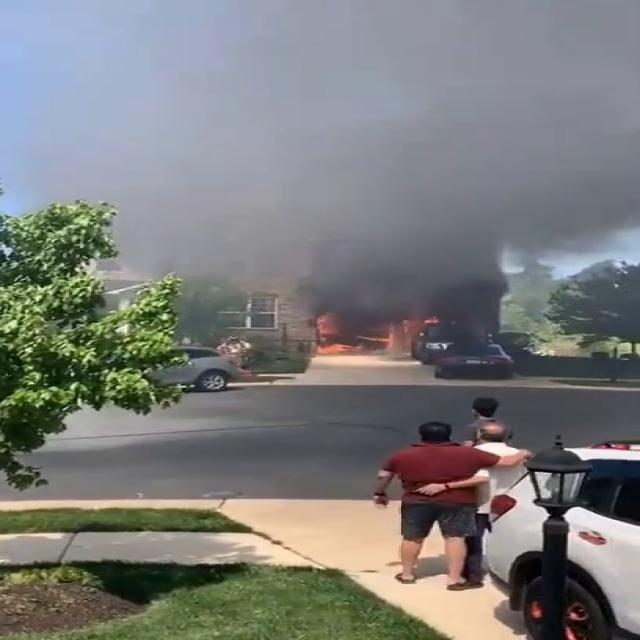Smoke: (93, 0, 635, 333)
